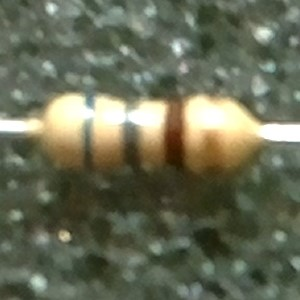blue_band: (81, 89, 98, 172)
brown_band: (161, 94, 186, 173)
gold_band: (201, 90, 229, 178)
grey_band: (120, 93, 144, 171)
